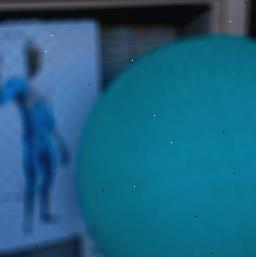algae: (79, 37, 256, 257)
